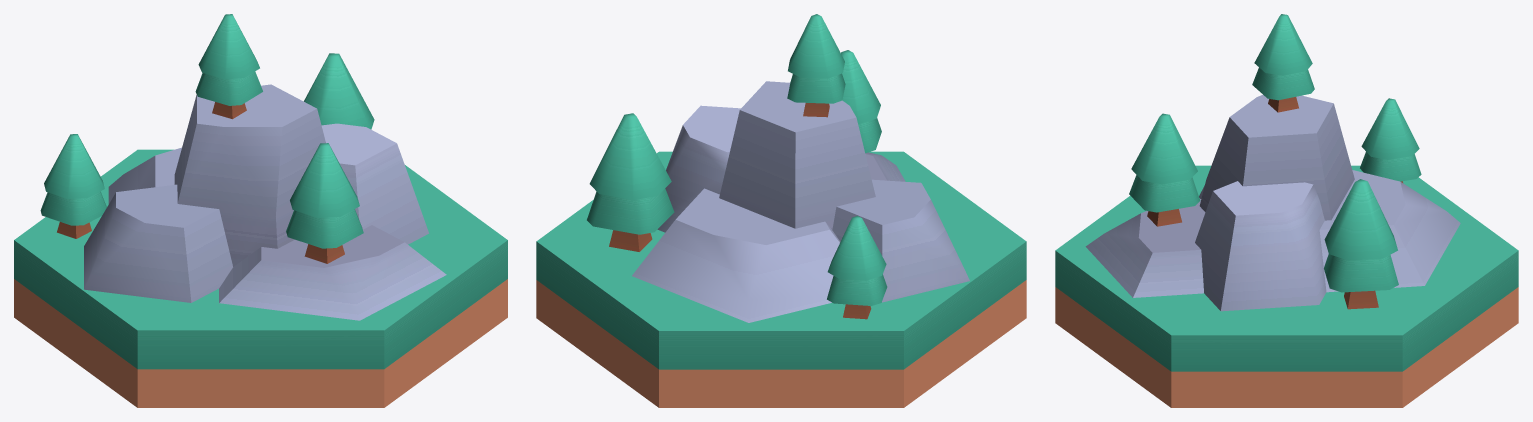
File: grass-hill.glb
3 renders of one model, left to right at view 1: azimuth 30°, elevation 25°; view 2: azimuth 150°, elevation 25°; view 3: azimuth 270°, elevation 25°, orthographic. The views are drawn at different scales.
Parts seen in each view (by area): view 1: grass-hill; view 2: grass-hill; view 3: grass-hill.
Part boxes in pixels (x1,y1,x2,y2): grass-hill: (14,14,507,407); grass-hill: (536,14,1026,407); grass-hill: (1055,14,1518,407).
Bounding box in the file's own units: 1 × 0.8033 × 1.15.
1 material, 1 textured.
